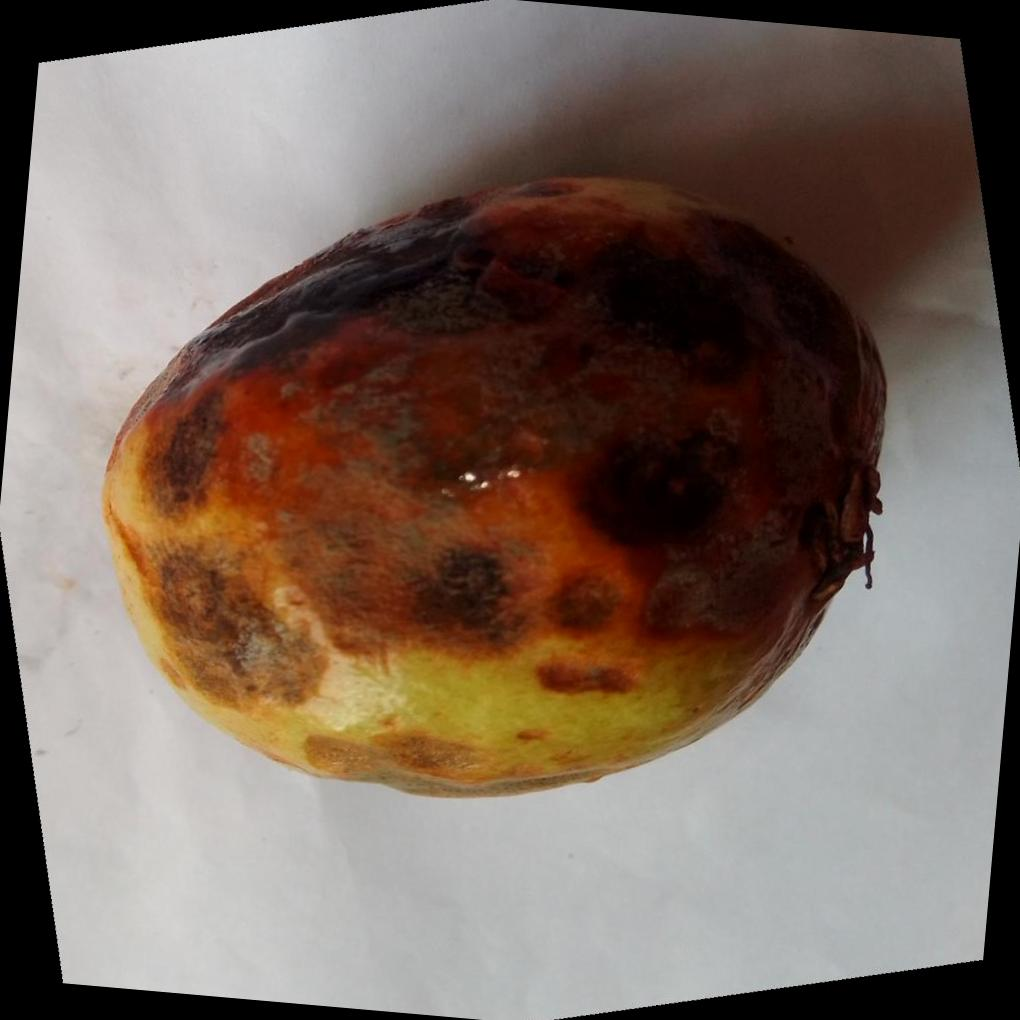FreshOrange: (98, 167, 889, 795)
